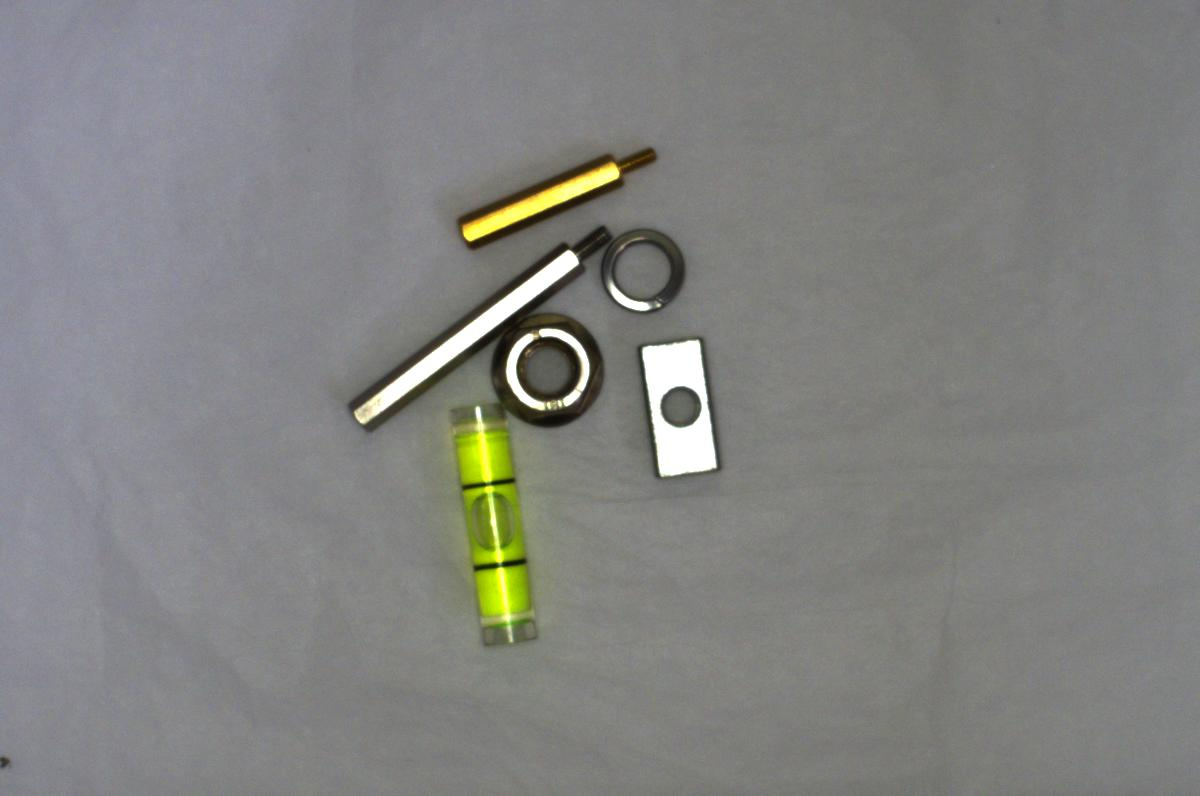Flange nut: (494, 318, 608, 432)
Hexagon pillar: (455, 146, 657, 236)
Hexagonal steel column: (337, 223, 610, 434)
Horizontal bubble: (438, 392, 550, 661)
Rectangular nut: (631, 332, 730, 488)
Spring washer: (599, 227, 691, 321)
